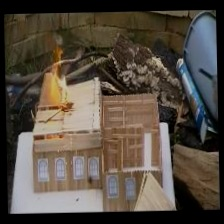fire: (37, 44, 76, 109)
